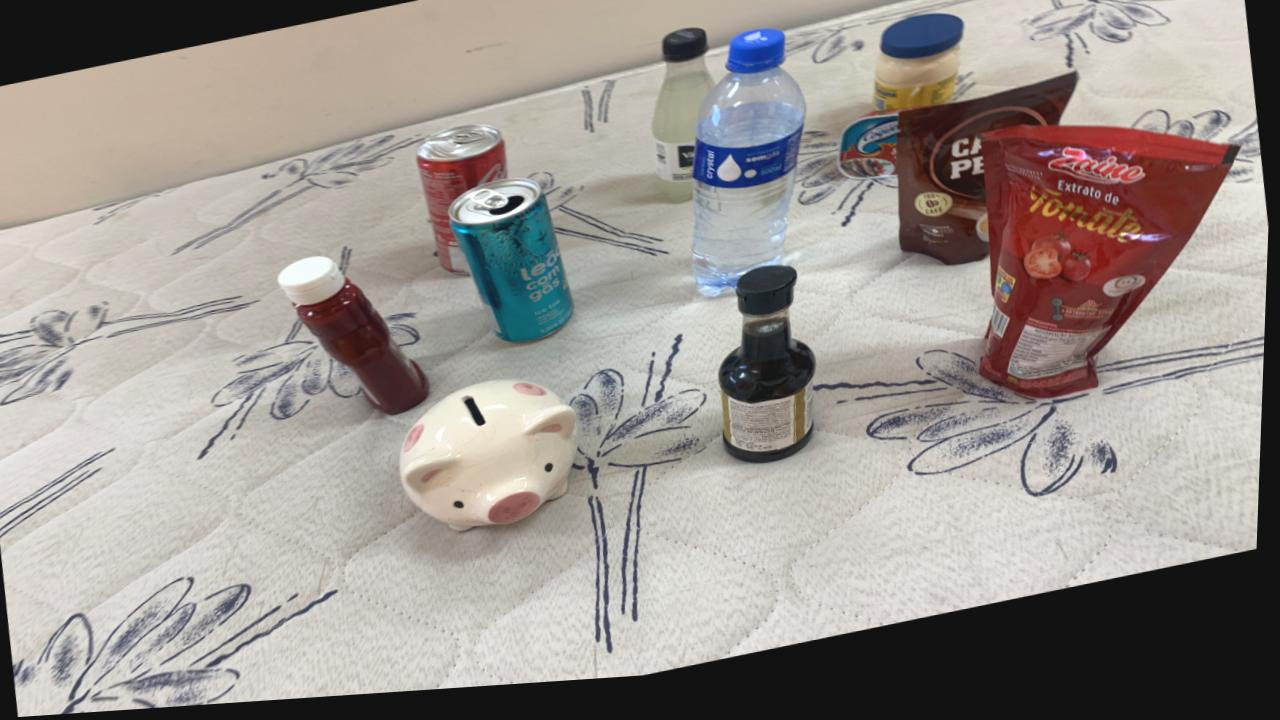Coffee-Pantry_Items: (896, 86, 1079, 278)
Coke-Drinks: (417, 130, 509, 281)
English_Sauce-Pantry_Items: (722, 275, 819, 474)
Ketchup-Pantry_Items: (279, 260, 432, 420)
Mayonnaise-Pantry_Items: (874, 25, 964, 124)
Pig_Safe-Miscellaneous: (402, 386, 581, 538)
Soda-Drinks: (651, 37, 715, 212)
Tea-Drinks: (450, 185, 575, 350)
Tomato_Sauce-Pantry_Items: (981, 139, 1239, 413)
Tuna_Can-Pantry_Items: (840, 124, 900, 191)
Water_Bottle-Drinks: (693, 39, 807, 305)
